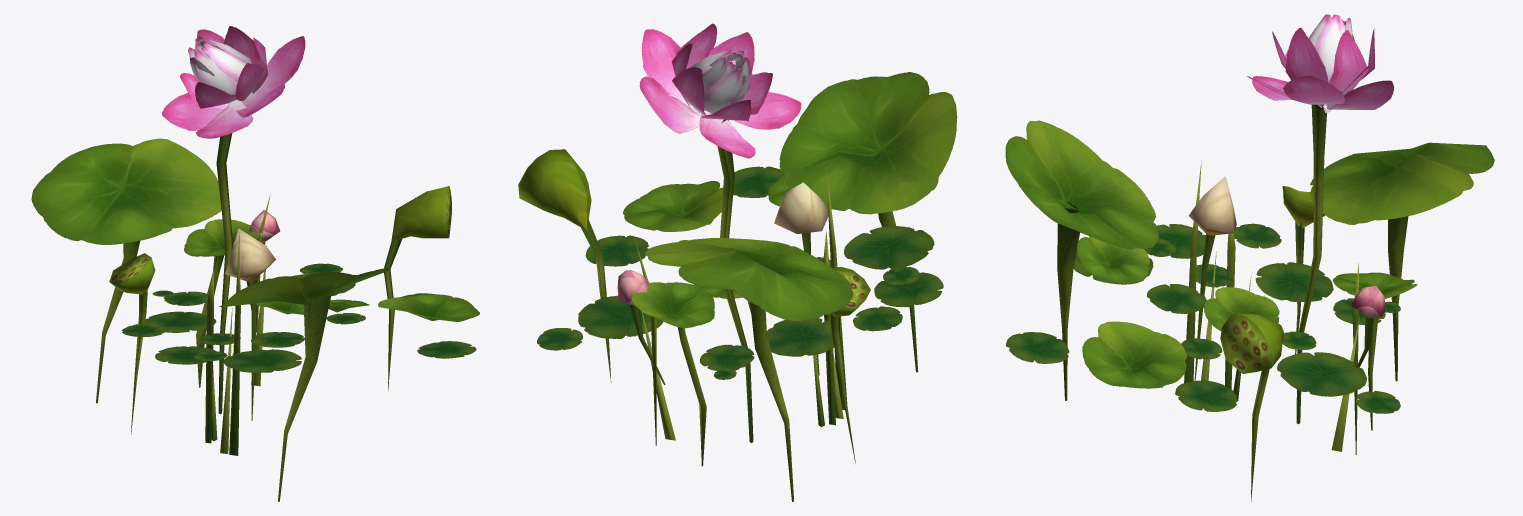
The model's file is sm_lotus_01.FBX.
The picture shows the model from 3 angles, left to right: view 1: azimuth 30°, elevation 25°; view 2: azimuth 150°, elevation 25°; view 3: azimuth 270°, elevation 25°; orthographic projection. The views are drawn at different scales.
Parts seen in each view (by area): view 1: sm_lotus_01; view 2: sm_lotus_01; view 3: sm_lotus_01.
Part boxes in pixels (x1,y1,x2,y2): sm_lotus_01: [31, 26, 479, 501]; sm_lotus_01: [518, 23, 957, 501]; sm_lotus_01: [1005, 14, 1494, 501].
Size of the model in its own units: 60.87 by 68.27 by 62.07.
